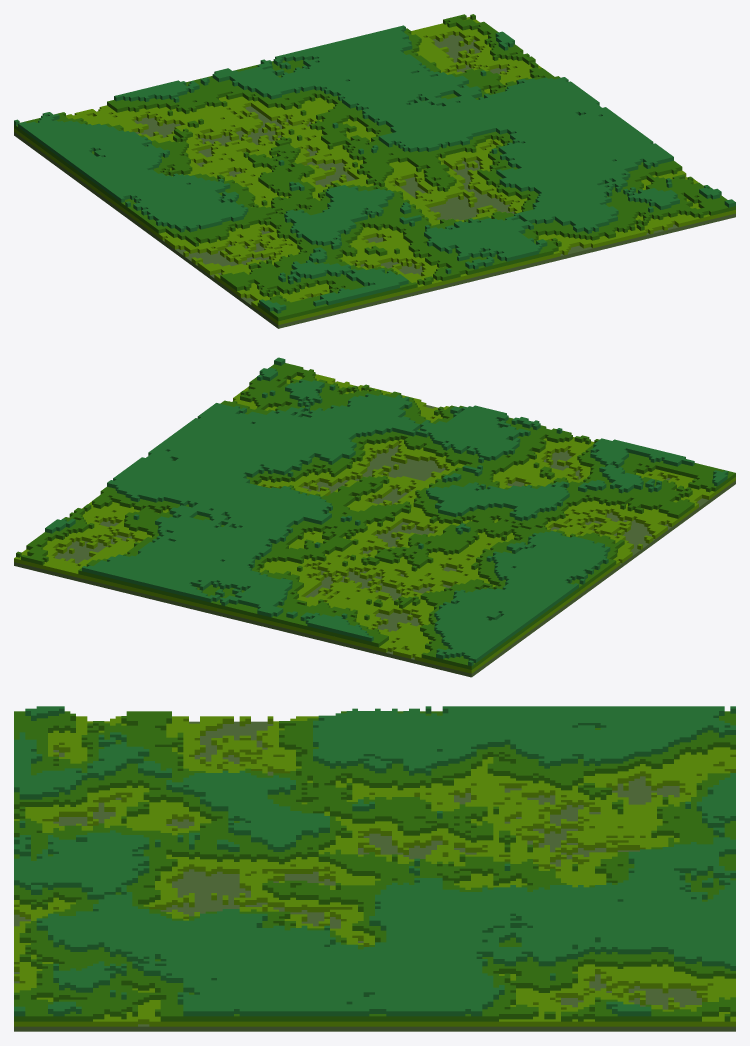
File: tile.fbx
3 renders of one model, top to bottom at view 1: azimuth 30°, elevation 25°; view 2: azimuth 150°, elevation 25°; view 3: azimuth 270°, elevation 25°, orthographic. The views are drawn at different scales.
Parts seen in each view (by area): view 1: Terrain; view 2: Terrain; view 3: Terrain.
Boxes of the visible parts, x1,y1,x2,y2 form: Terrain: (14, 14, 735, 328); Terrain: (14, 357, 735, 677); Terrain: (14, 706, 735, 1031).
Size of the model in its own units: 128 by 4 by 128.
